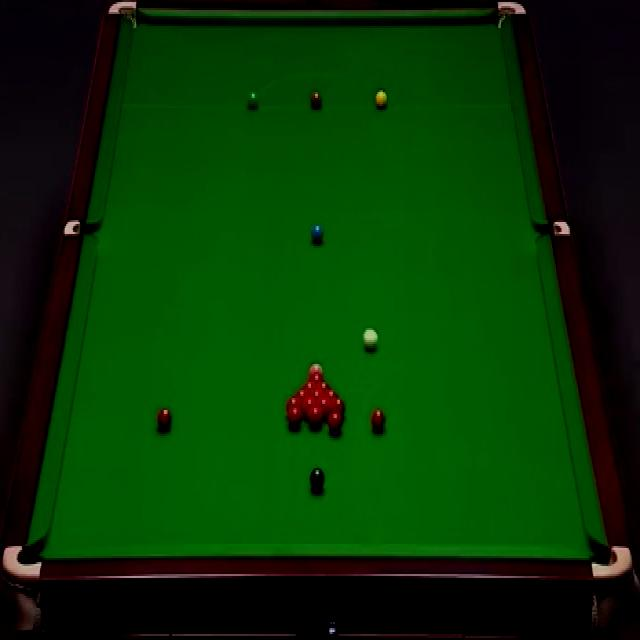black-ball: (310, 468, 324, 490)
blue-ball: (310, 222, 324, 243)
brown-ball: (310, 89, 323, 111)
green-ball: (247, 89, 260, 110)
pink-ball: (306, 362, 324, 376)
red-ball: (369, 404, 386, 434), (157, 407, 172, 431), (327, 412, 341, 433), (286, 396, 300, 415), (317, 398, 330, 418), (295, 389, 307, 410), (331, 399, 345, 417), (309, 408, 322, 427), (303, 399, 315, 419), (289, 408, 300, 427), (307, 392, 324, 398), (324, 391, 338, 398)
white-ball: (362, 326, 378, 354)
yellow-ball: (375, 90, 387, 110)
